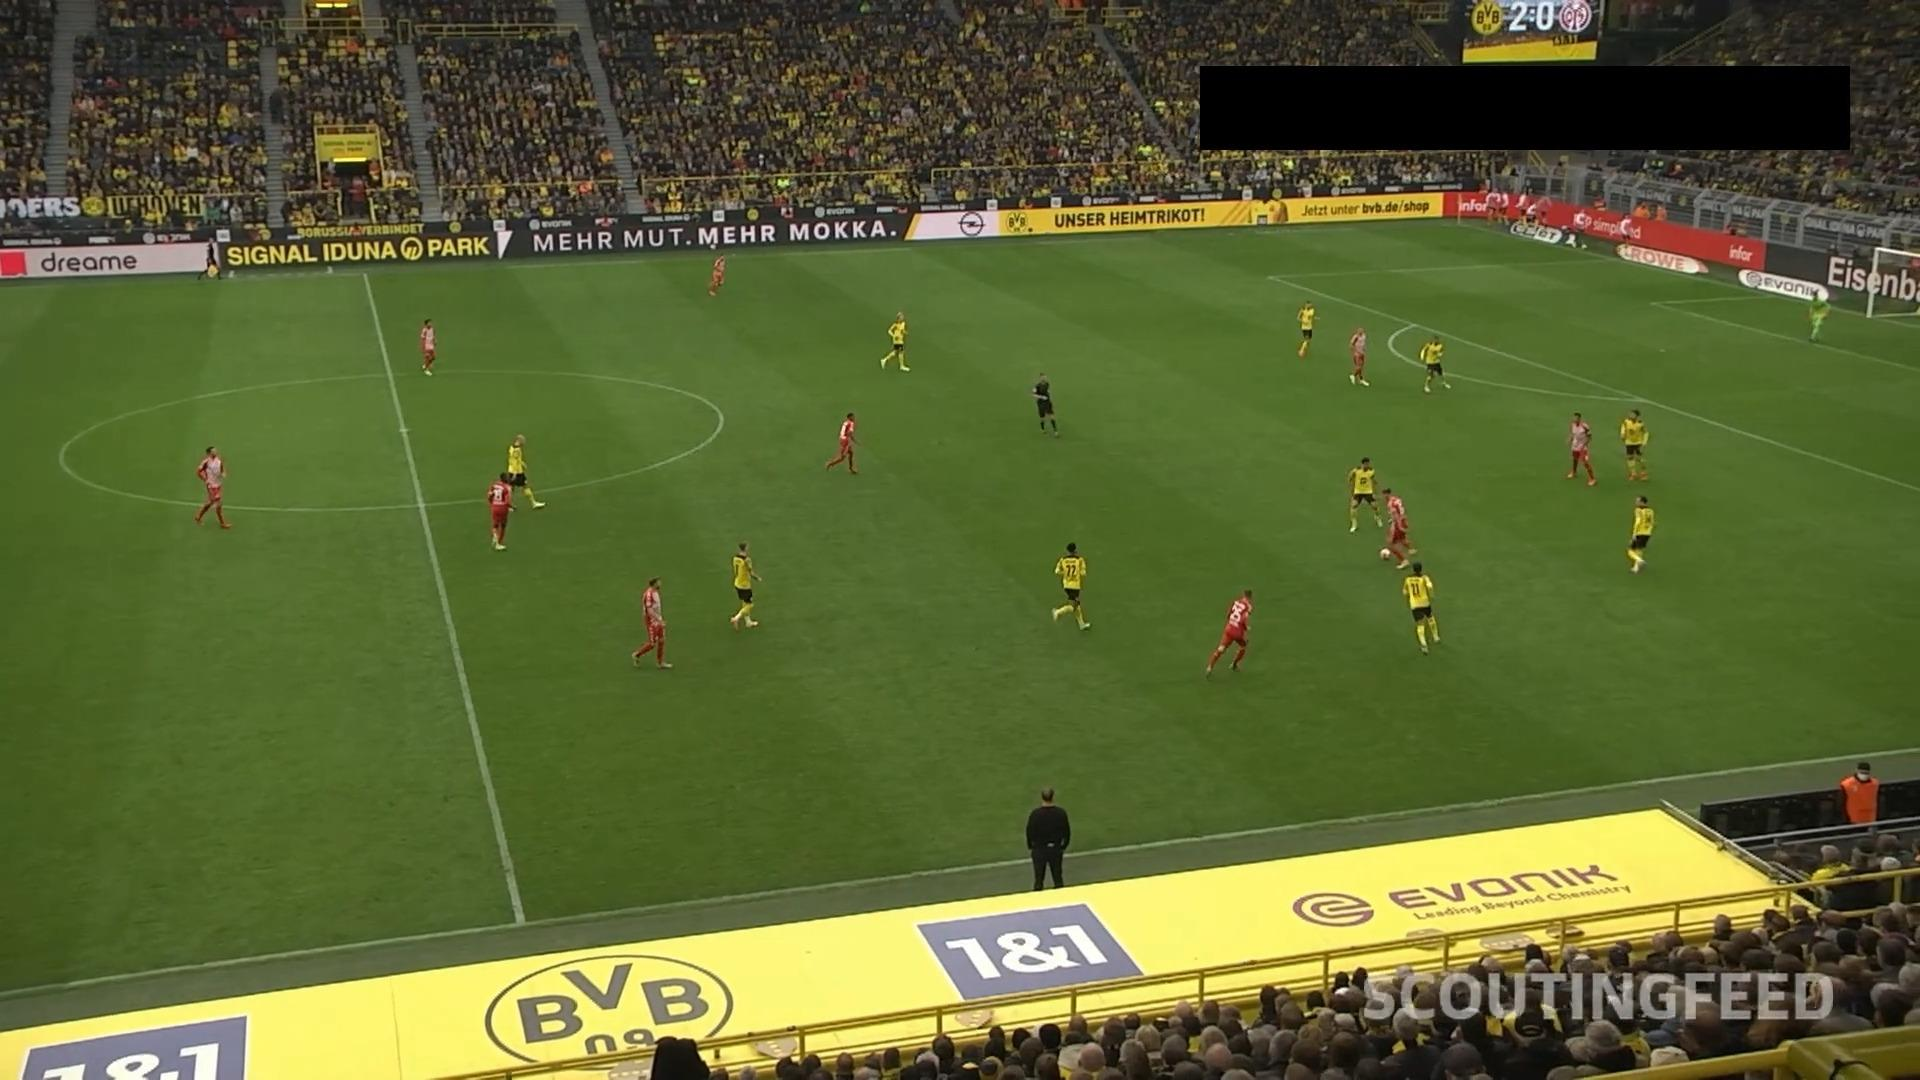ball: (1378, 546, 1393, 560)
